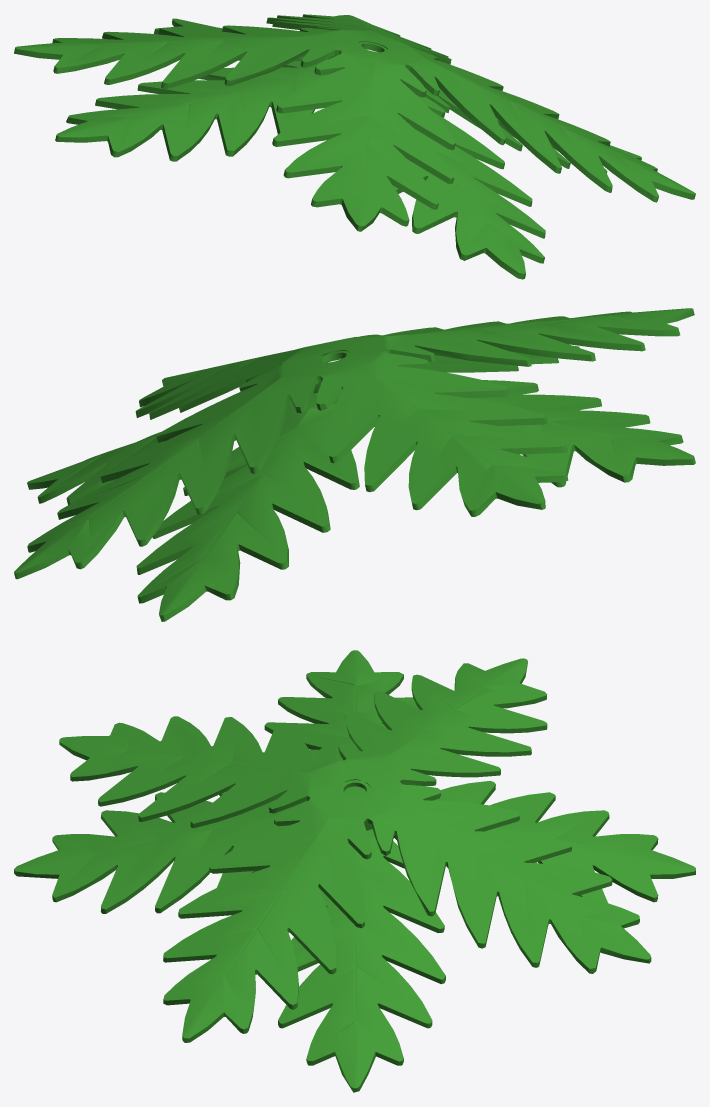
File: fern.glb
The picture shows the model from 3 angles, top to bottom: view 1: azimuth 30°, elevation 25°; view 2: azimuth 150°, elevation 25°; view 3: azimuth 270°, elevation 25°; orthographic projection. The views are drawn at different scales.
Visible parts, largest first — view 1: fern; view 2: fern; view 3: fern.
Part boxes in pixels (x1=…): fern: x1=14, y1=14, x2=695, y2=279; fern: x1=14, y1=308, x2=695, y2=621; fern: x1=14, y1=650, x2=695, y2=1092.
Bounding box in the file's own units: 6.37 × 1.99 × 6.58.
